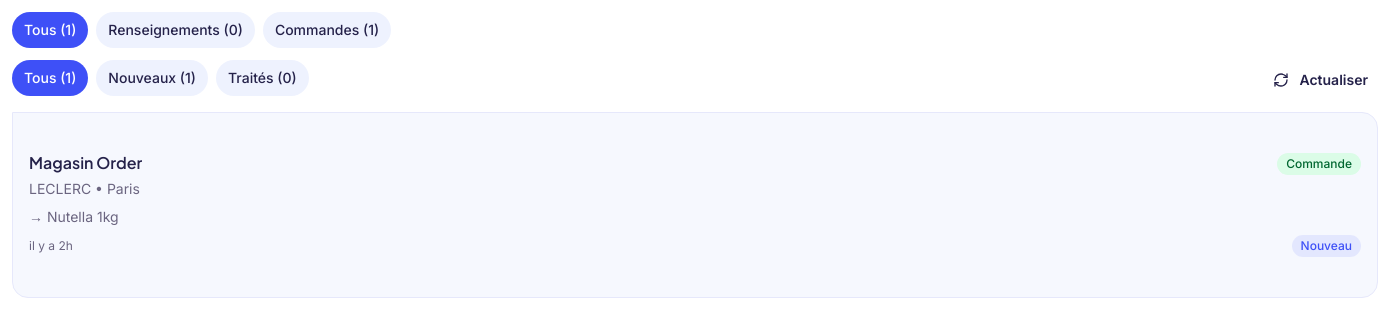
it: SupplierRequestList › resets all filters when reset button is clicked
The width and height of the screenshot is (1390, 315).
Click the radio button "Renseignements (0)". click: (176, 30)
box: [96,12,255,48]
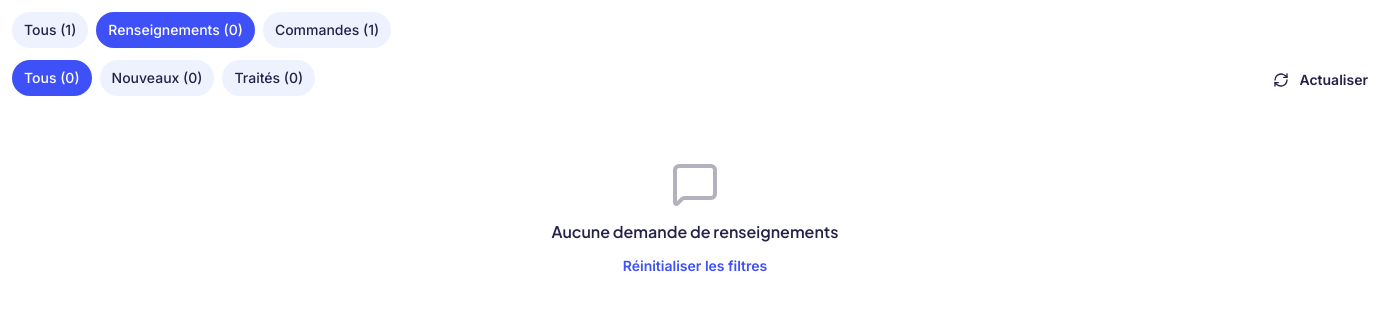
Click the button "Réinitialiser les filtres". click: (695, 266)
box: [607,248,783,284]
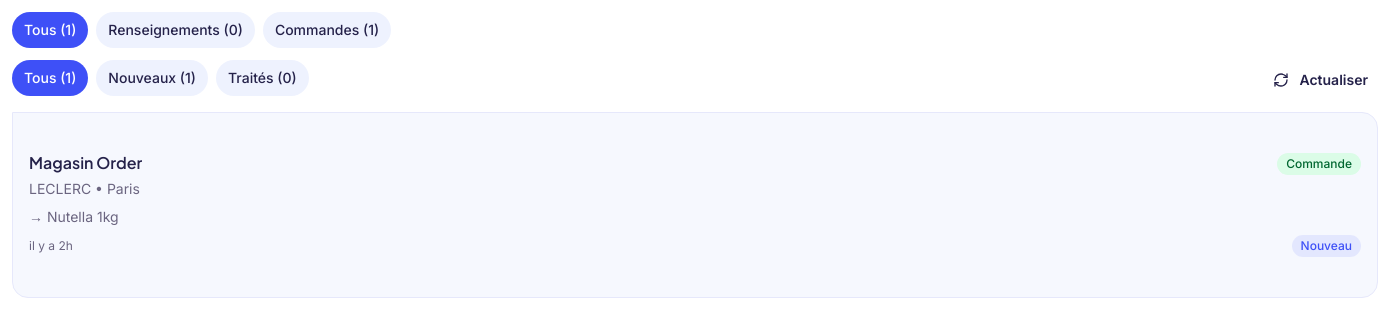
Check: the heading "Magasin Order" is shown, box [29,153,142,173]
